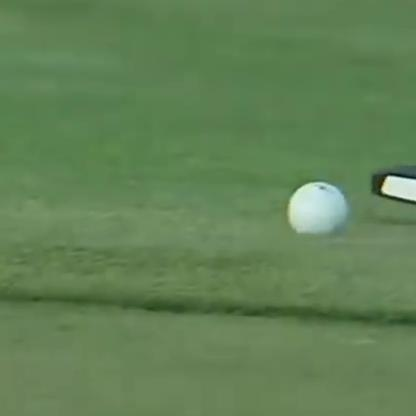golfball: (283, 182, 346, 239)
